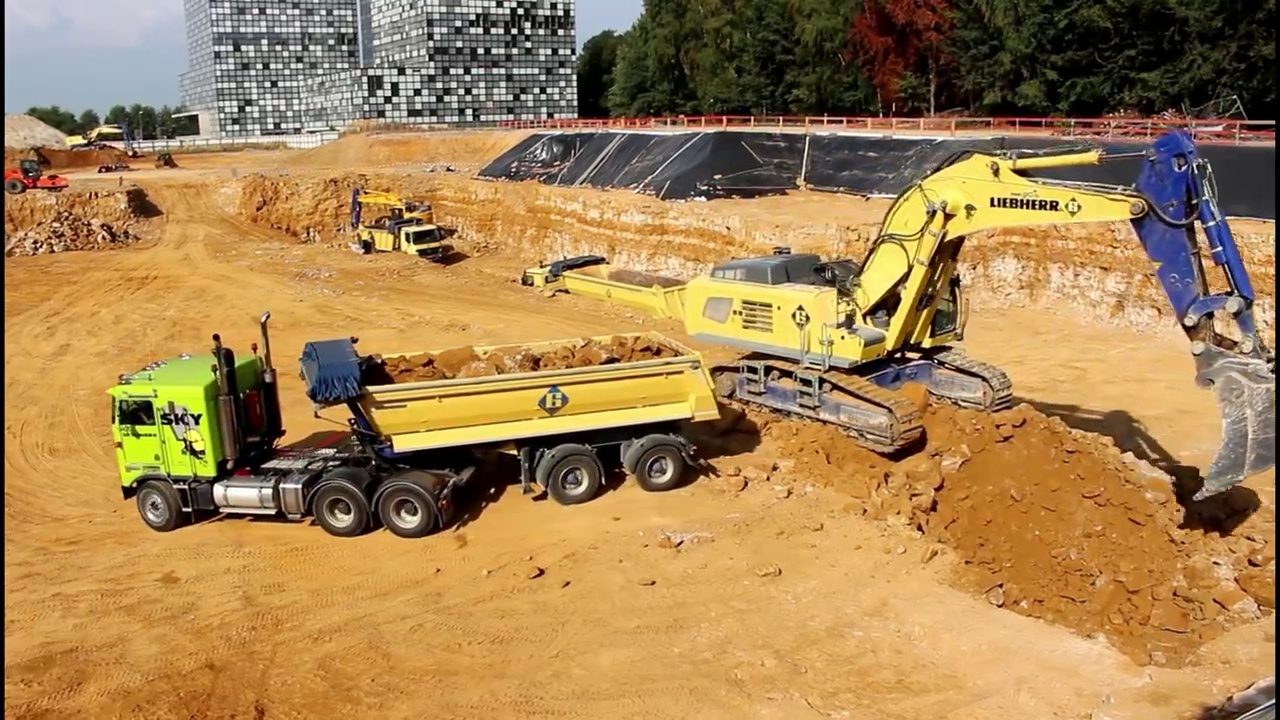compactor: (5, 159, 74, 196)
excavator: (682, 124, 1280, 507), (346, 181, 440, 251), (64, 121, 143, 164)
truck: (105, 307, 726, 541), (523, 250, 698, 358), (360, 221, 448, 271)
